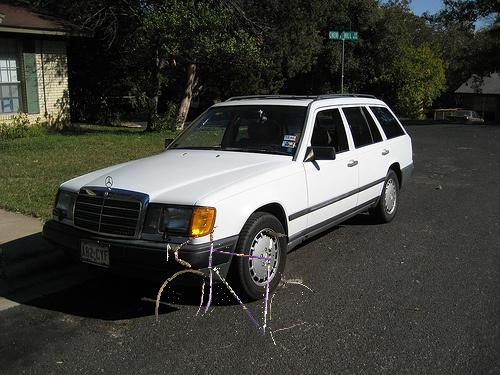tampered: (156, 225, 328, 354)
